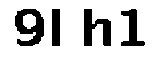1: (118, 5, 149, 52)
9: (8, 6, 47, 51)
I: (48, 3, 71, 52)
h: (79, 4, 115, 52)
